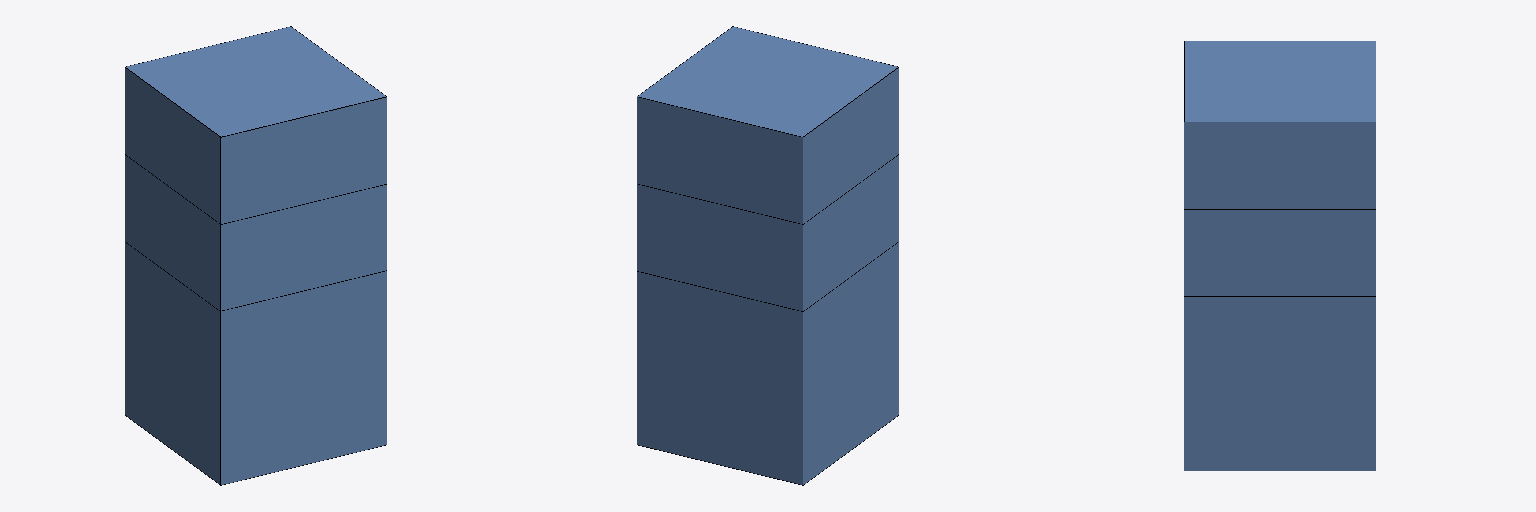
3 renders of one model, left to right at view 1: azimuth 30°, elevation 25°; view 2: azimuth 150°, elevation 25°; view 3: azimuth 270°, elevation 25°, orthographic.
Parts seen in each view (by area): view 1: body1_Cube; view 2: body1_Cube; view 3: body1_Cube.
Boxes of the visible parts, x1=… form: body1_Cube: x1=125, y1=26, x2=386, y2=485; body1_Cube: x1=637, y1=26, x2=898, y2=485; body1_Cube: x1=1184, y1=41, x2=1375, y2=470.
Size of the model in its own units: 2 by 4 by 2.
1 materials, 1 textured.